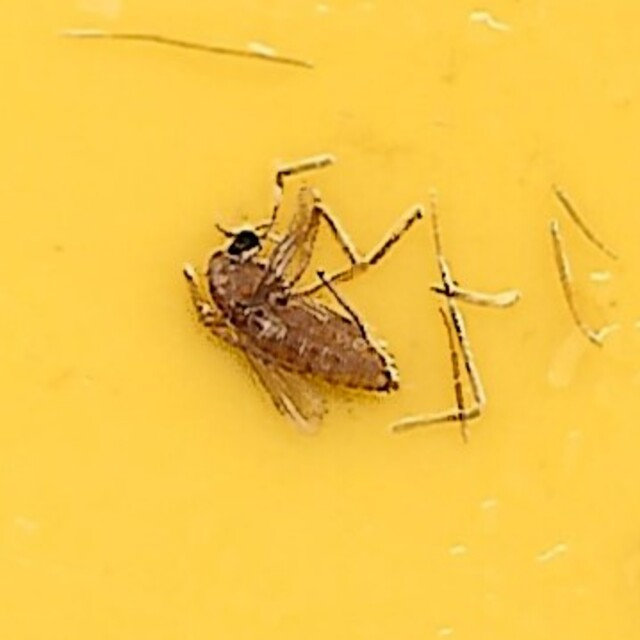Nematocera: (178, 189, 462, 451)
